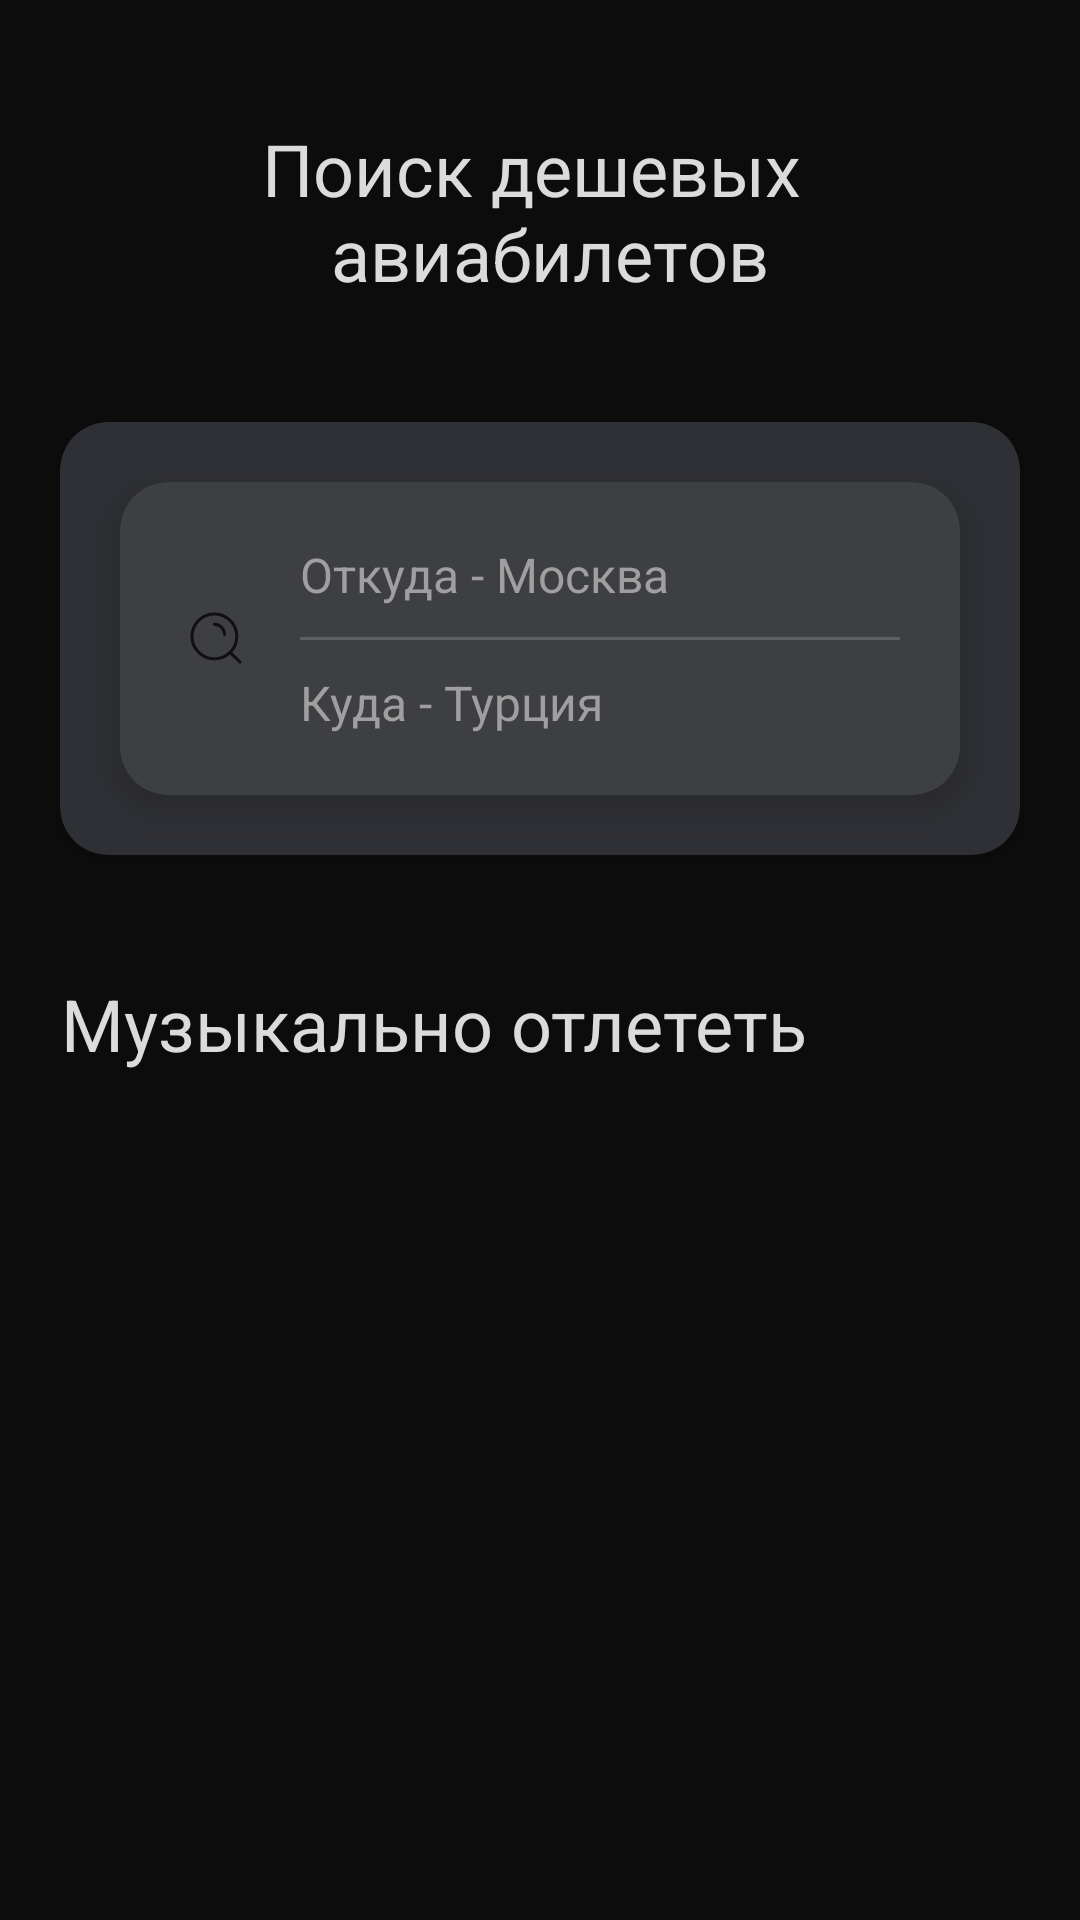

Named icons in this screenshot (1080x1920) and their bounding boxes, (x1, y1, x2, y2):
search offer fragment: (190, 612, 241, 663)
